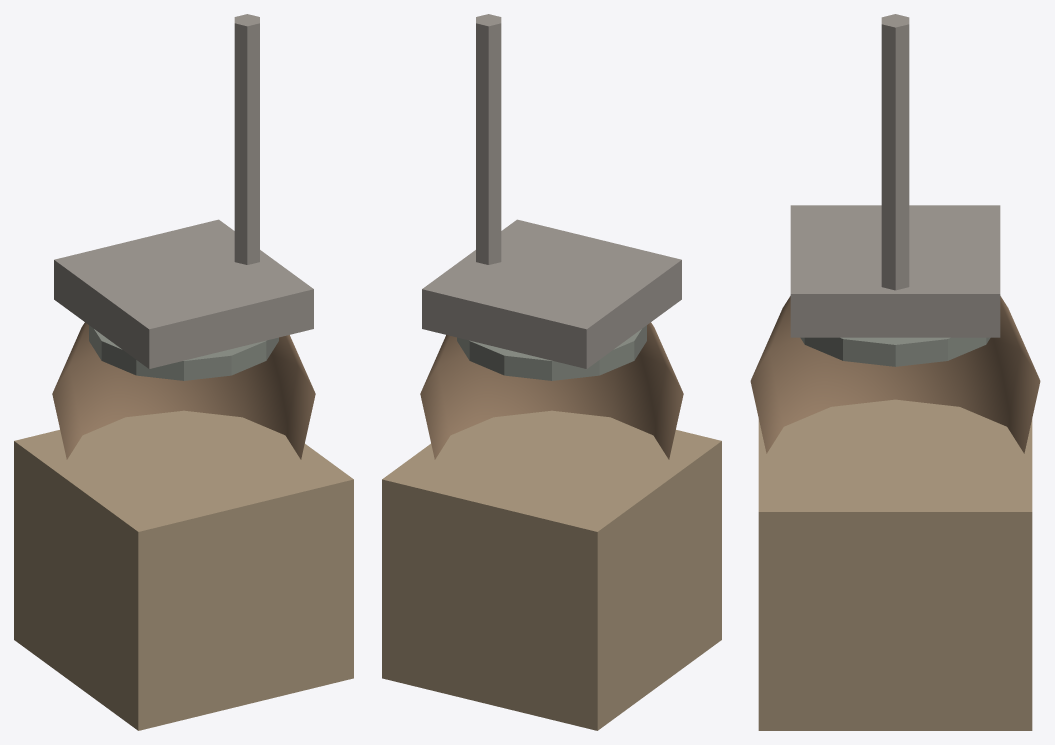
Rendered from trench-line-1917-brazier-6e5ae93a__24054.glb.
3 renders of one model, left to right at view 1: azimuth 30°, elevation 25°; view 2: azimuth 150°, elevation 25°; view 3: azimuth 270°, elevation 25°, orthographic. The views are drawn at different scales.
Visible parts, largest first — view 1: brazier; view 2: brazier; view 3: brazier.
Boxes of the visible parts, x1,y1,x2,y2 form: brazier: [14, 14, 353, 730]; brazier: [382, 14, 721, 730]; brazier: [750, 14, 1040, 730].
Size of the model in its own units: 0.36 by 0.94 by 0.36.
